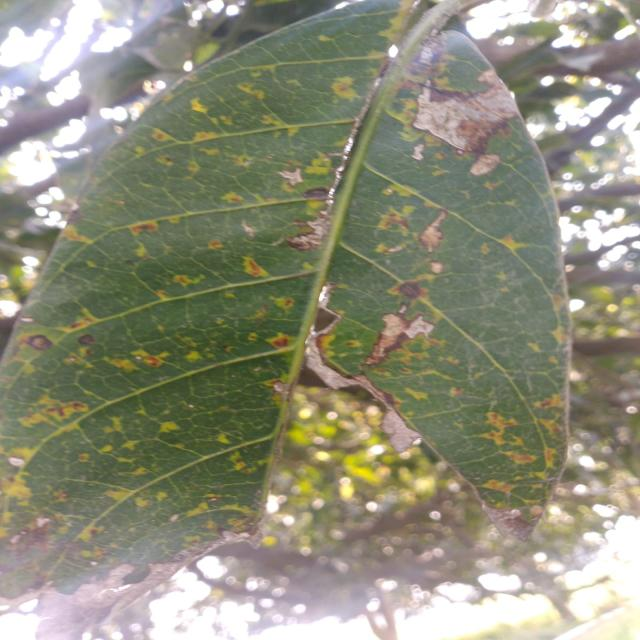Anthracnose: (0, 490, 67, 550), (192, 98, 256, 158), (27, 323, 94, 367), (28, 392, 91, 435), (128, 211, 189, 247), (334, 76, 360, 105)
Bacterial Cancer: (413, 75, 517, 163), (377, 306, 427, 361), (277, 166, 310, 201)
